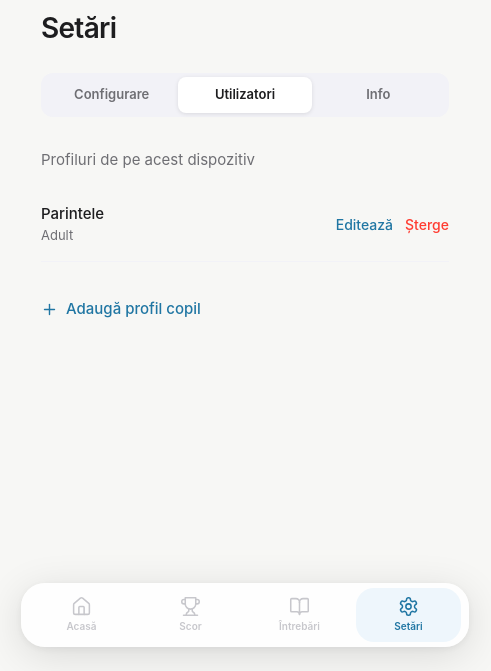
Test: R8: Setări > Configurare -- prize states › voting closed shows the winner's title
Step 1. Click the button "Configurare" → [112, 95], box 45,77 -> 178,112
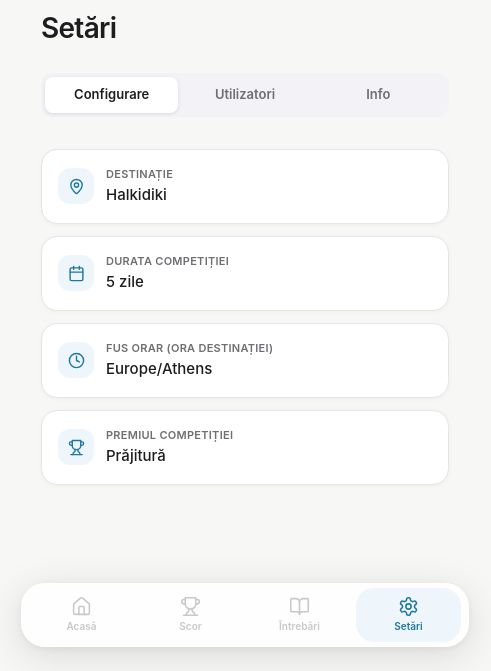
Expected: the text "Prăjitură" is shown, 106,446 -> 166,465
